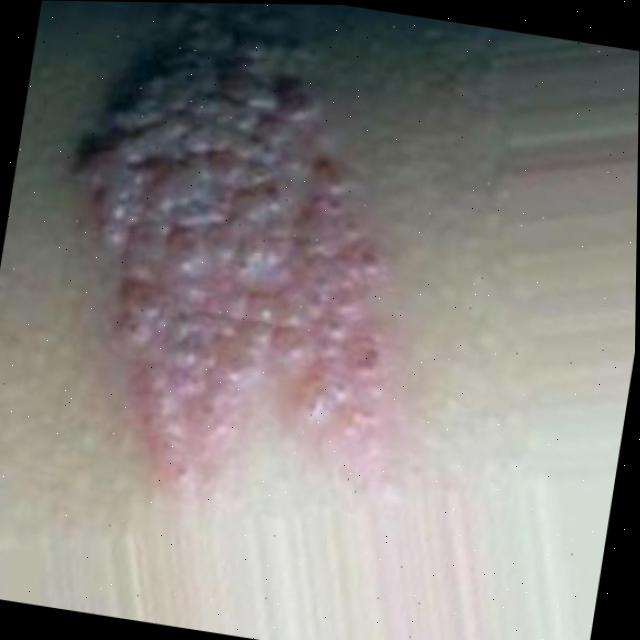Shingles: (36, 1, 453, 499)
